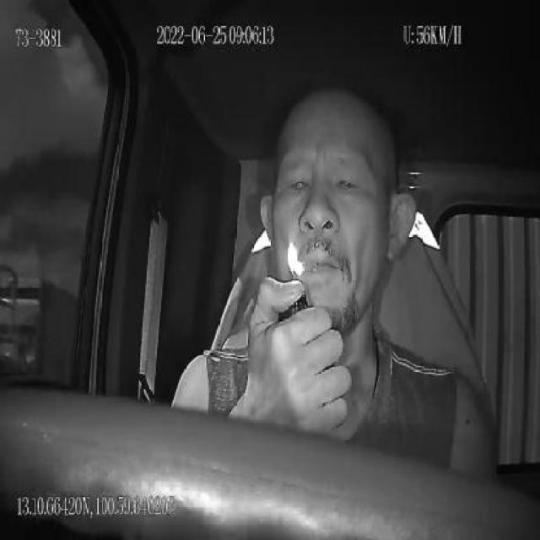smoking: (294, 257, 323, 276)
